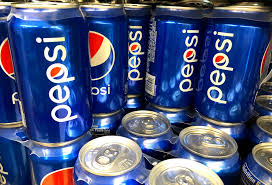Pepsi: (8, 6, 94, 141), (198, 14, 253, 120), (150, 10, 197, 108), (90, 8, 122, 111), (121, 2, 149, 96)
